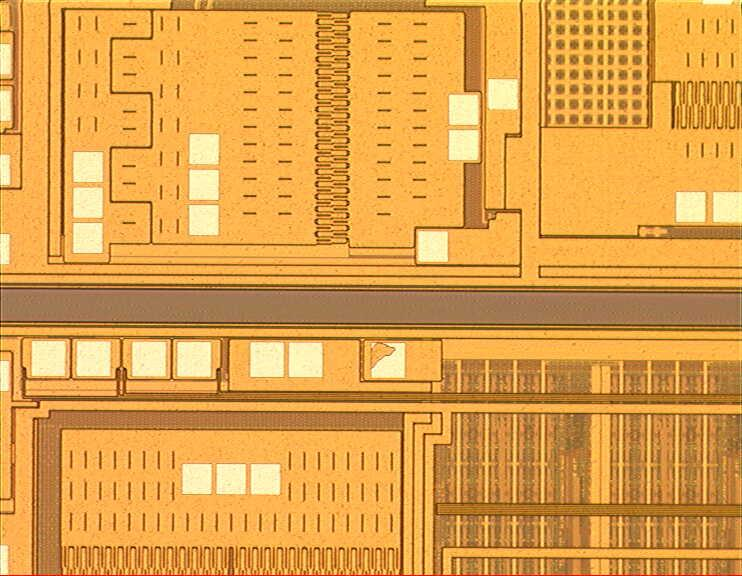BLOCK ETCH: (366, 339, 400, 371)
